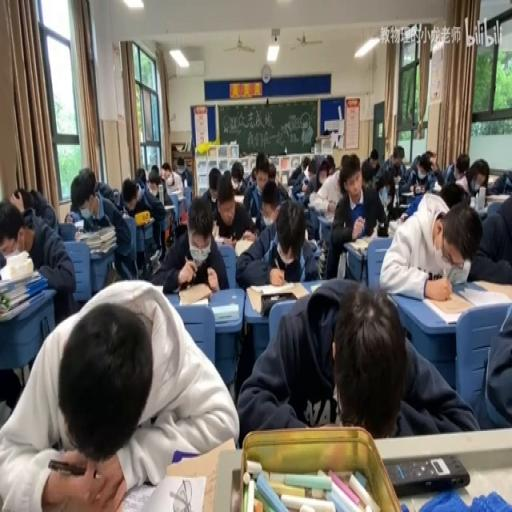calculator: (126, 471, 206, 512), (246, 280, 308, 312), (456, 278, 510, 308), (178, 282, 212, 303), (210, 302, 238, 324), (0, 245, 26, 263), (346, 236, 372, 253), (233, 236, 254, 256), (310, 196, 328, 215), (486, 192, 510, 202), (149, 247, 159, 269), (212, 233, 230, 245), (168, 186, 183, 200), (134, 215, 153, 226), (305, 238, 317, 252), (388, 218, 398, 234), (233, 193, 245, 205), (320, 212, 334, 222), (73, 219, 84, 230), (430, 182, 442, 192), (295, 189, 306, 199), (310, 283, 322, 292), (212, 222, 218, 239), (401, 189, 415, 196), (395, 202, 408, 209), (164, 204, 174, 210)
paper: (3, 277, 237, 509), (236, 278, 471, 440), (1, 195, 75, 350), (378, 194, 480, 300), (234, 192, 320, 287), (70, 168, 141, 283), (326, 154, 390, 274), (154, 194, 228, 292), (467, 186, 512, 286), (400, 150, 442, 196), (296, 155, 330, 205), (26, 186, 58, 230), (376, 147, 406, 189), (200, 165, 222, 222), (242, 161, 264, 216), (443, 151, 472, 186), (118, 173, 140, 212), (438, 180, 466, 208), (173, 155, 192, 192), (486, 168, 512, 195), (229, 160, 245, 194), (360, 159, 377, 189), (8, 189, 24, 213), (134, 165, 148, 186), (147, 165, 160, 186), (477, 172, 489, 191), (324, 152, 334, 174), (299, 155, 309, 174), (267, 161, 277, 179), (339, 154, 349, 169), (306, 168, 316, 182), (426, 149, 436, 162), (370, 148, 378, 162), (250, 166, 256, 184), (162, 164, 171, 176), (64, 212, 74, 222)
person: (384, 454, 470, 496), (376, 220, 390, 234)
